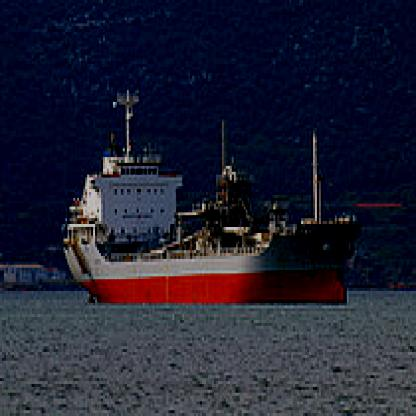Tanker: (57, 76, 366, 320)
